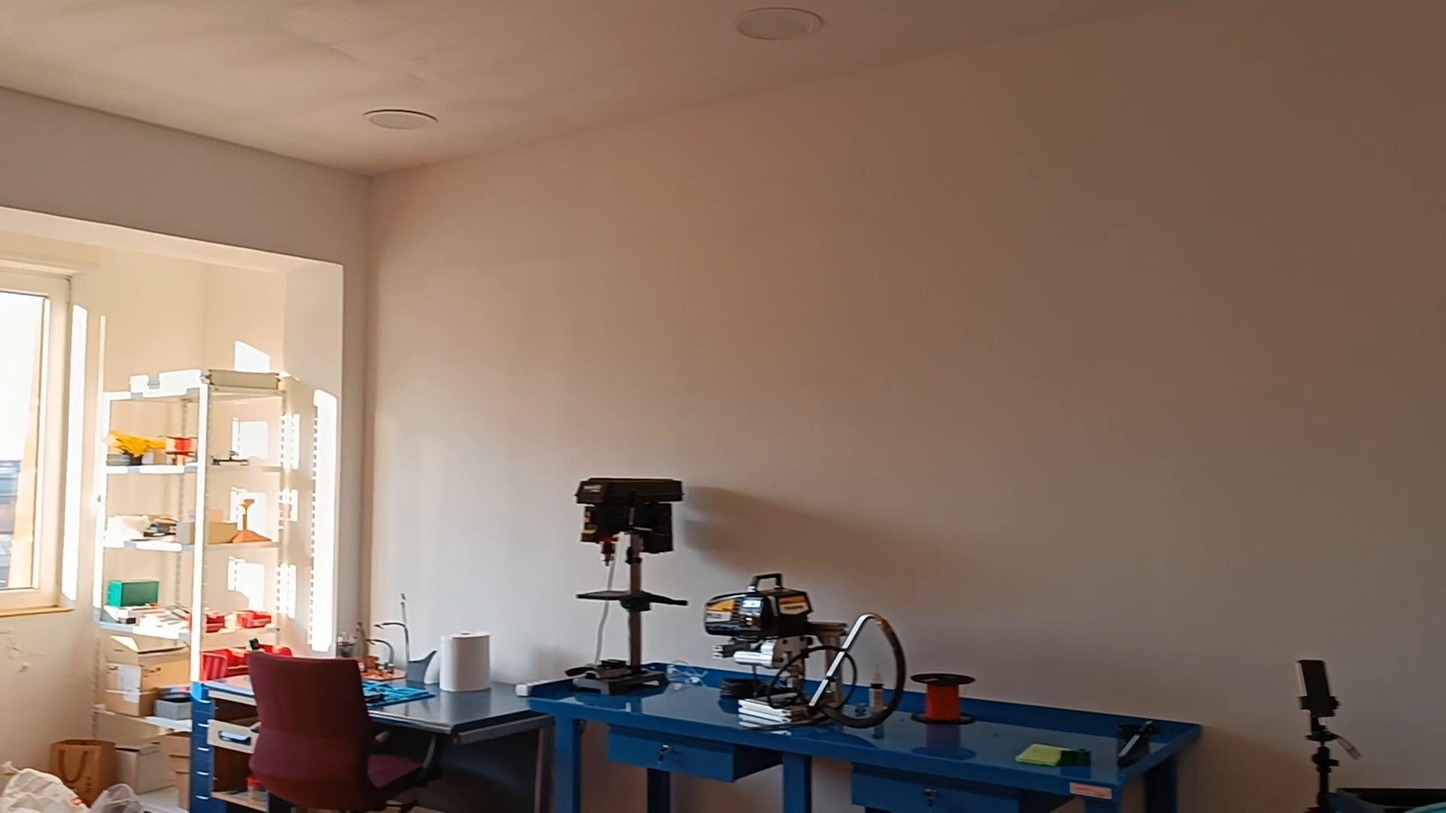ceiling: (0, 0, 1152, 172)
wall: (363, 2, 1445, 810), (0, 93, 239, 205)
